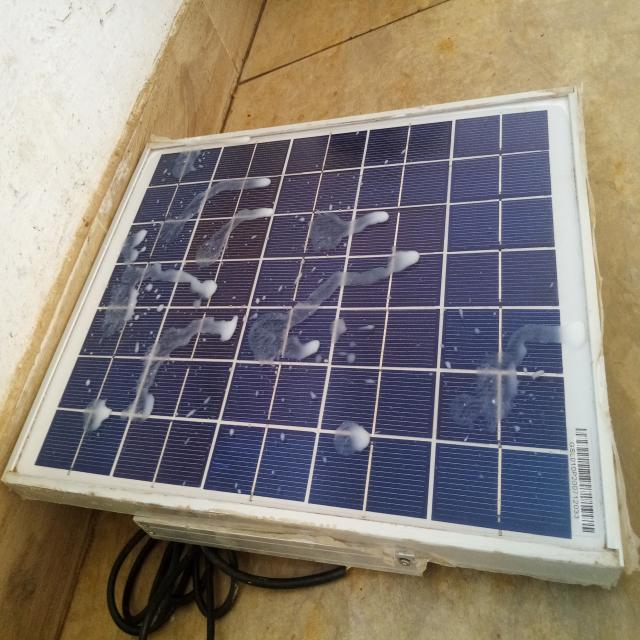faulty: (2, 90, 623, 566)
